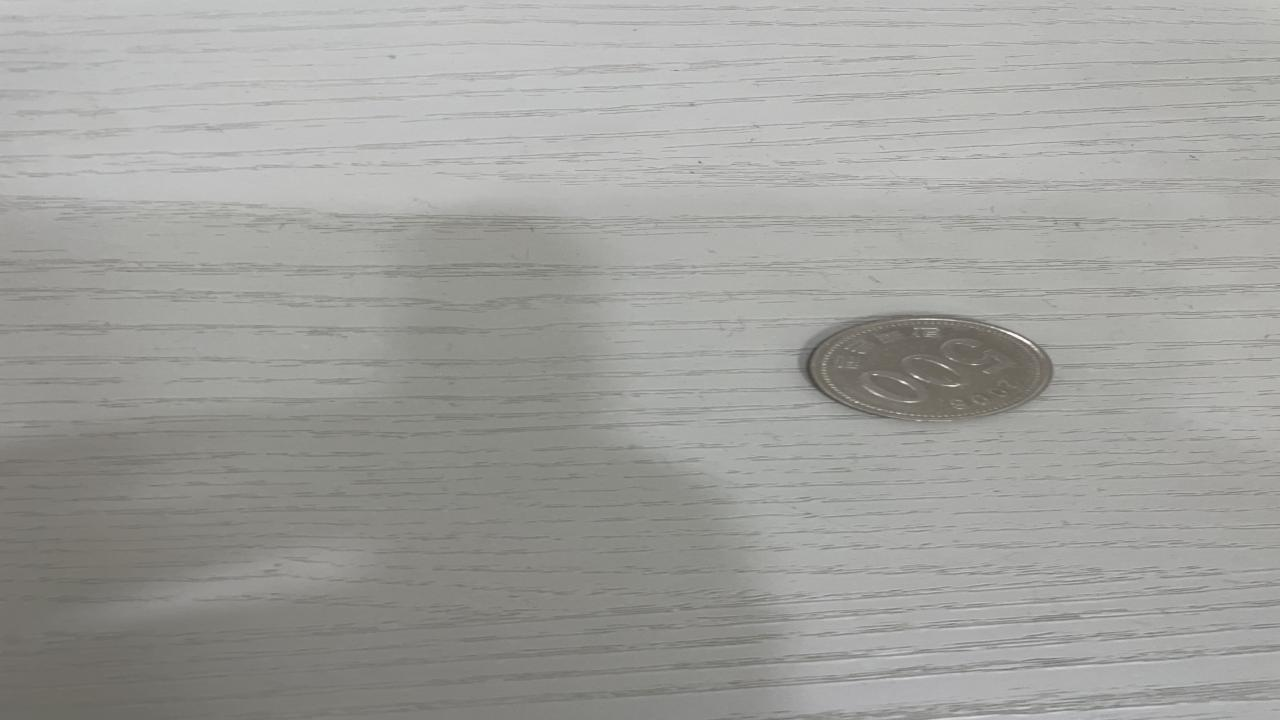coin: (801, 316, 1052, 422)
